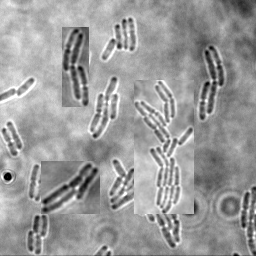Dividing: (1, 128, 18, 157), (28, 164, 39, 200), (239, 192, 249, 229), (34, 166, 40, 202)
Microcolony: (134, 80, 194, 214), (109, 158, 180, 249), (41, 161, 100, 214), (62, 27, 89, 107), (88, 76, 119, 139), (199, 45, 224, 121), (101, 18, 136, 61), (27, 214, 48, 255)
Rod: (5, 121, 23, 150), (16, 78, 34, 99)
